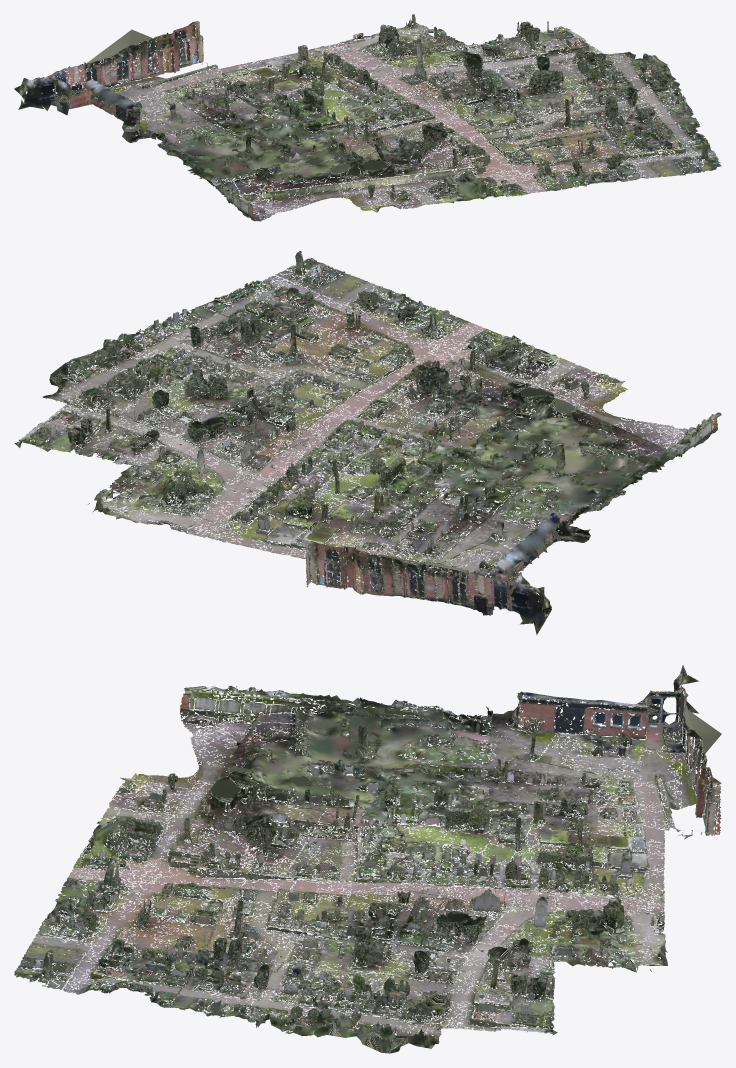
File: friedhof_celle.glb
3 views of the same model, one above another, from view 1: azimuth 30°, elevation 25°; view 2: azimuth 150°, elevation 25°; view 3: azimuth 270°, elevation 25° (orthographic). The views are drawn at different scales.
Parts seen in each view (by area): view 1: Object_2; view 2: Object_2; view 3: Object_2.
Part boxes in pixels (x1,y1,x2,y2): Object_2: (14,14,721,221); Object_2: (14,251,721,634); Object_2: (14,665,721,1053).
Size of the model in its own units: 80.98 by 6.53 by 69.72.
1 material, 1 textured.
